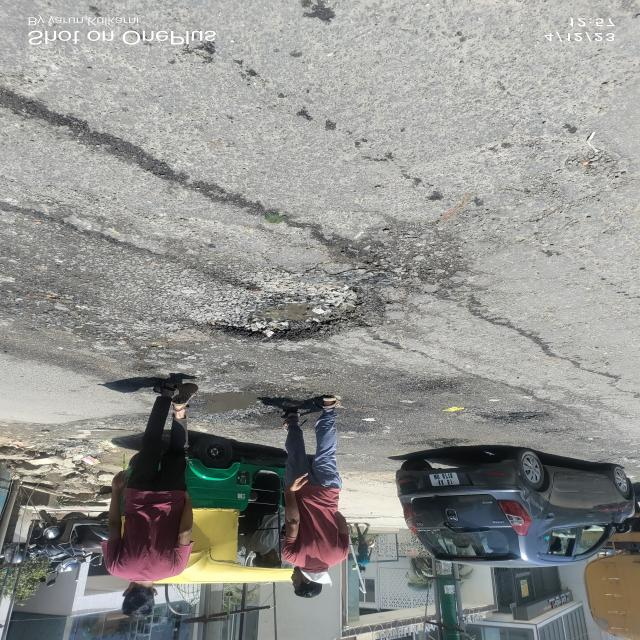potholes: (188, 286, 362, 348)
